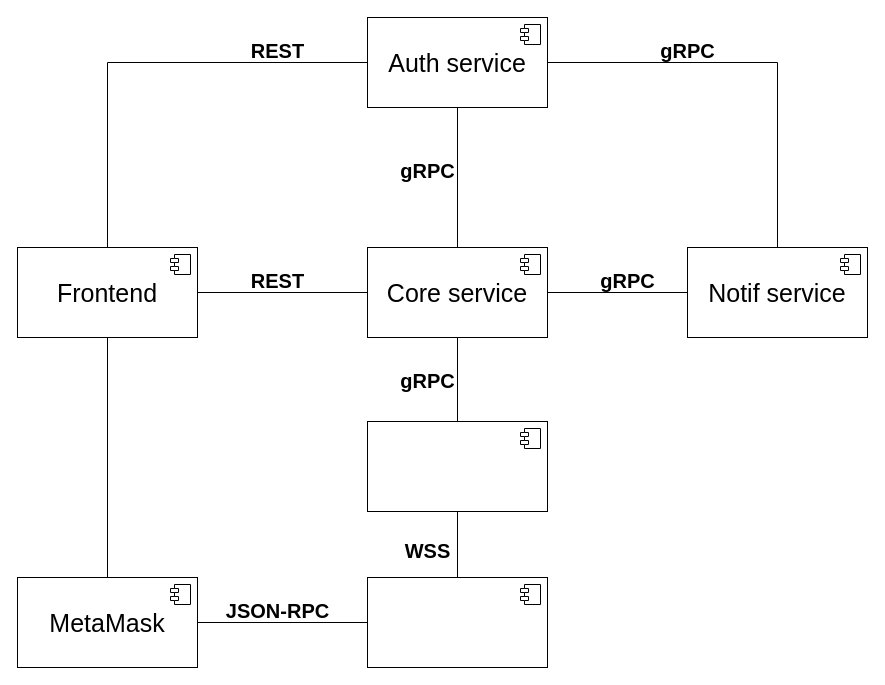
Some shapes in this 885 by 685 pixel diagram are drawn without their labels. Here are the shapes that lost their labels. From the top down, the centre of each, then its label:
At pixel 457 466: "Payment service".
At pixel 457 622: "blockchain".
